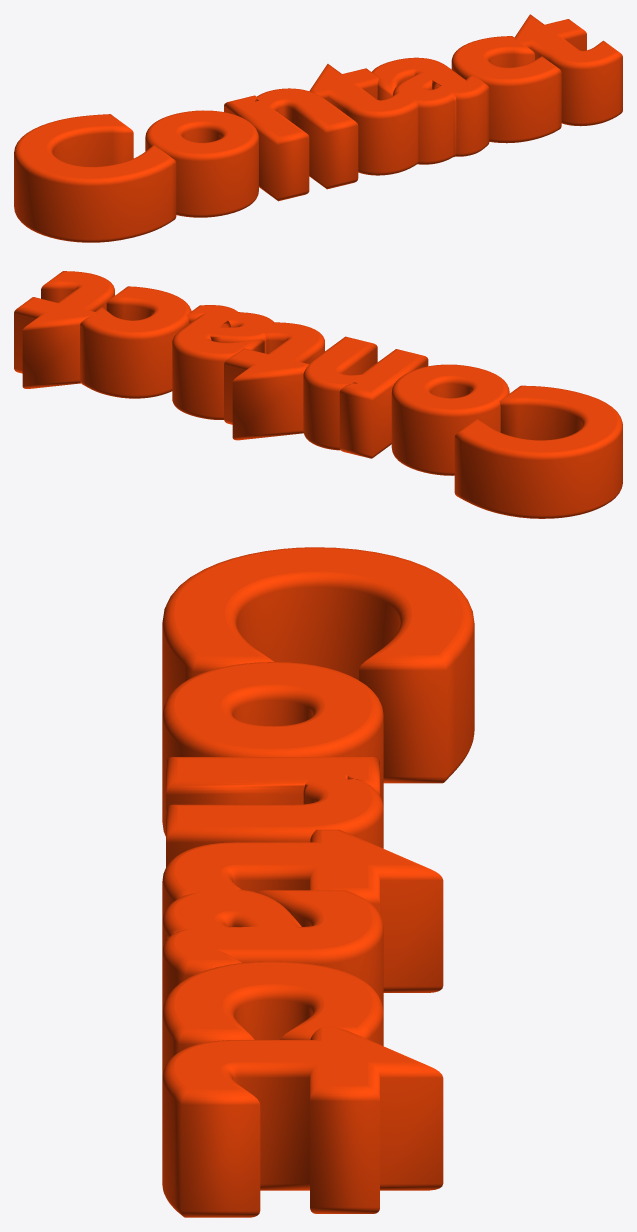
Rendered from contact.gltf.
3 renders of one model, top to bottom at view 1: azimuth 30°, elevation 25°; view 2: azimuth 150°, elevation 25°; view 3: azimuth 270°, elevation 25°, orthographic. The views are drawn at different scales.
Visible parts, largest first — view 1: Text; view 2: Text; view 3: Text.
Boxes of the visible parts, bbox=[...] form: Text: bbox=[14, 14, 622, 242]; Text: bbox=[14, 271, 622, 518]; Text: bbox=[162, 547, 474, 1217].
Bounding box in the file's own units: 3.34 × 0.36 × 0.8001.
